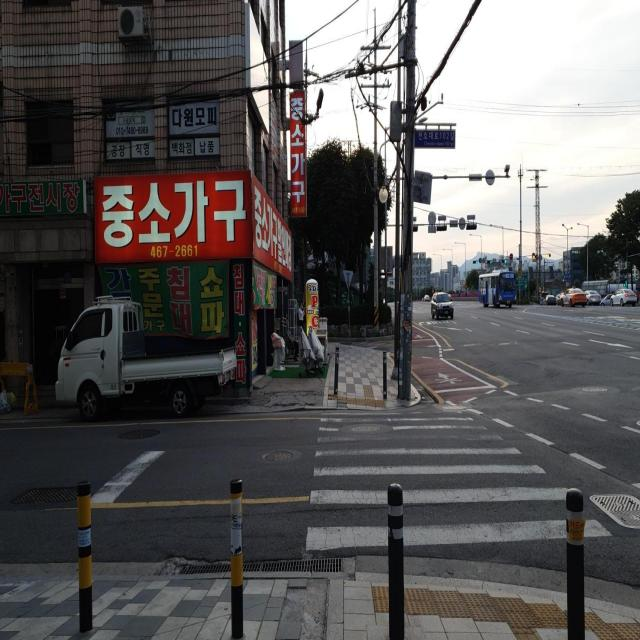횡단보도: (304, 414, 612, 552)
